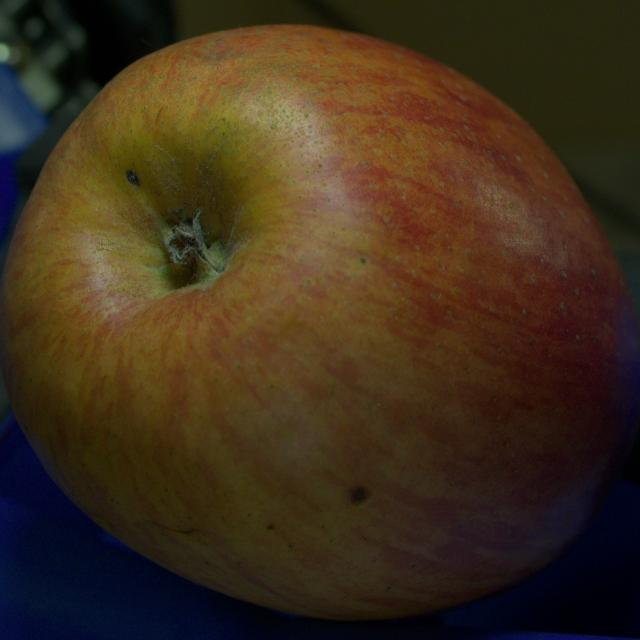apple: (0, 27, 639, 618)
pest: (351, 487, 369, 503), (127, 170, 139, 186)
